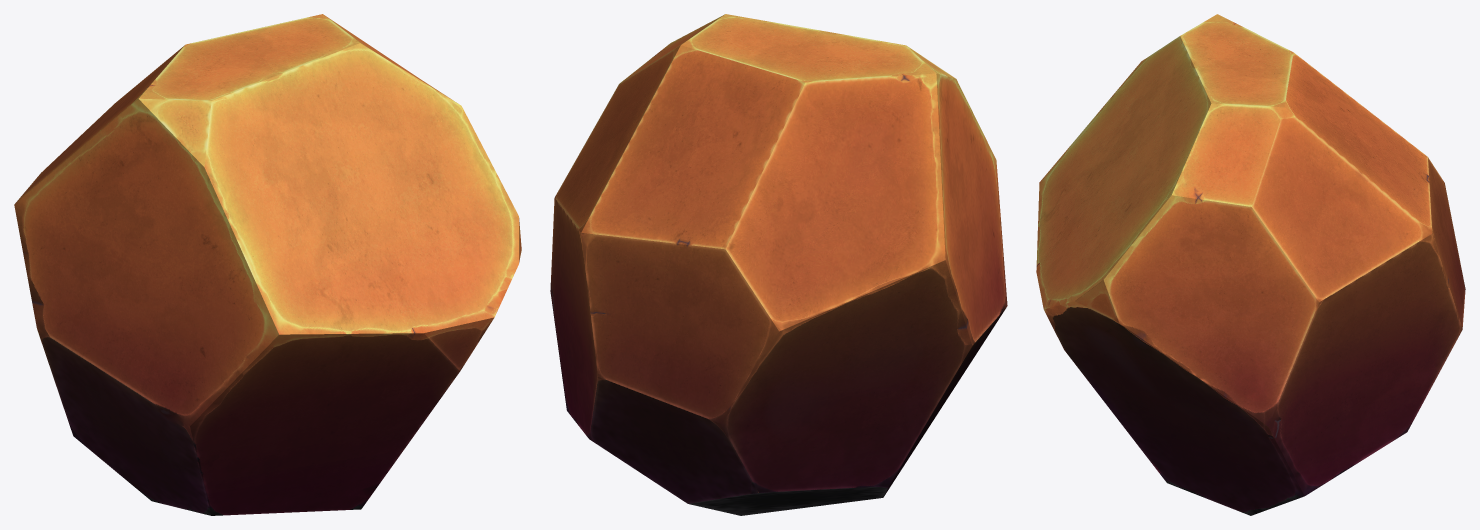
The model's file is S_rocks_05.glb.
3 renders of one model, left to right at view 1: azimuth 30°, elevation 25°; view 2: azimuth 150°, elevation 25°; view 3: azimuth 270°, elevation 25°, orthographic. The views are drawn at different scales.
Visible parts, largest first — view 1: S_Rock_05; view 2: S_Rock_05; view 3: S_Rock_05.
Part boxes in pixels (x1=…): S_Rock_05: x1=14, y1=14, x2=521, y2=515; S_Rock_05: x1=550, y1=14, x2=1007, y2=515; S_Rock_05: x1=1036, y1=14, x2=1465, y2=515.
Bounding box in the file's own units: 1.14 × 1.18 × 1.11.
1 material, 1 textured.
